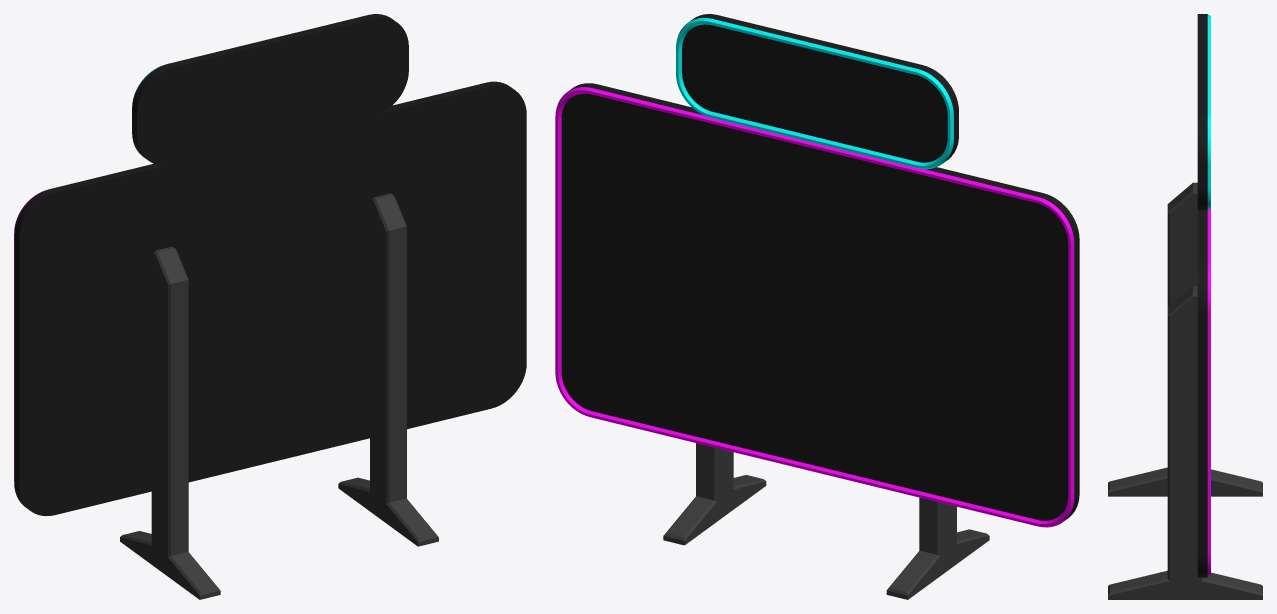
Rendered from SM_ScoreScreen.fbx.
The picture shows the model from 3 angles, left to right: view 1: azimuth 30°, elevation 25°; view 2: azimuth 150°, elevation 25°; view 3: azimuth 270°, elevation 25°; orthographic projection. The views are drawn at different scales.
Visible parts, largest first — view 1: SM_ScoreScreen; view 2: SM_ScoreScreen; view 3: SM_ScoreScreen.
Boxes of the visible parts, <box> form: SM_ScoreScreen: <box>14,14,526,599</box>; SM_ScoreScreen: <box>555,14,1079,599</box>; SM_ScoreScreen: <box>1108,14,1262,599</box>.
Size of the model in its own units: 489 by 454 by 133.
